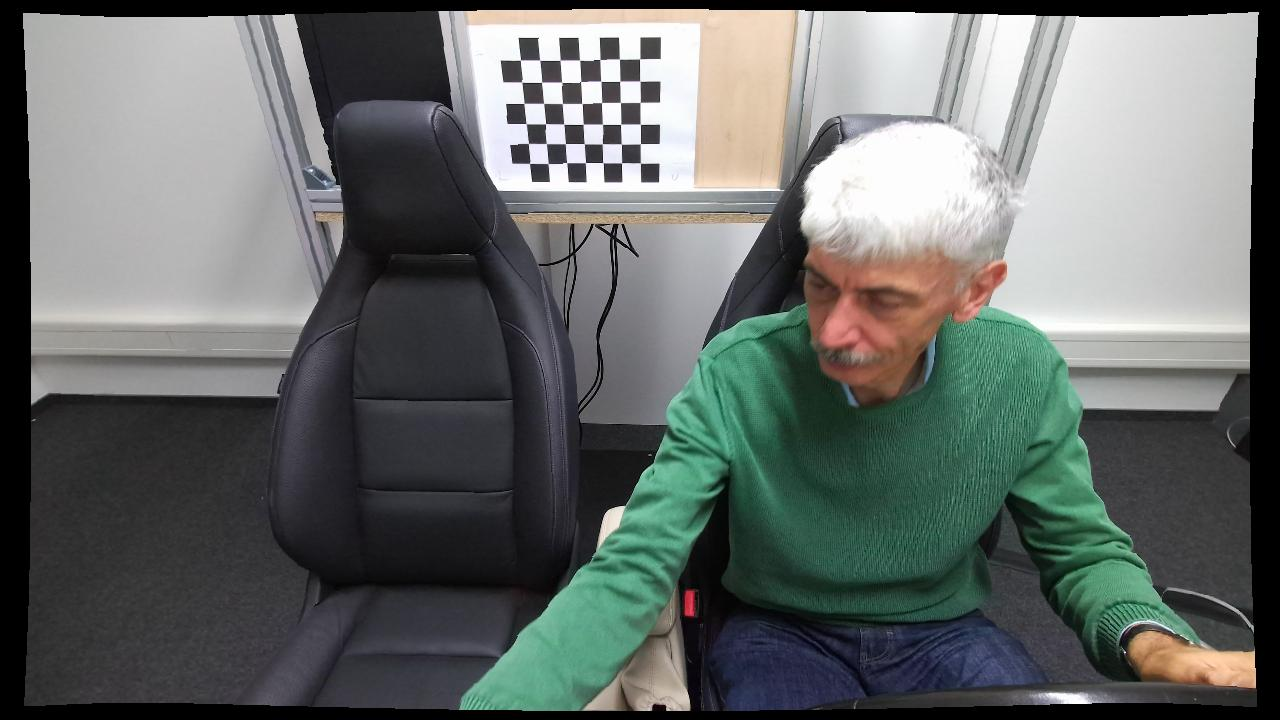Distracted: (457, 121, 1175, 713)
